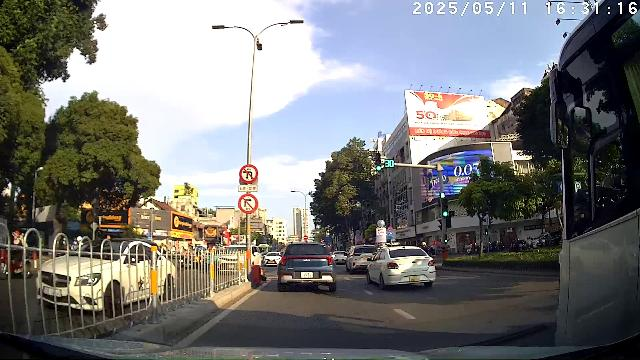103b-cam-oto-re-phai: (238, 194, 258, 214)
